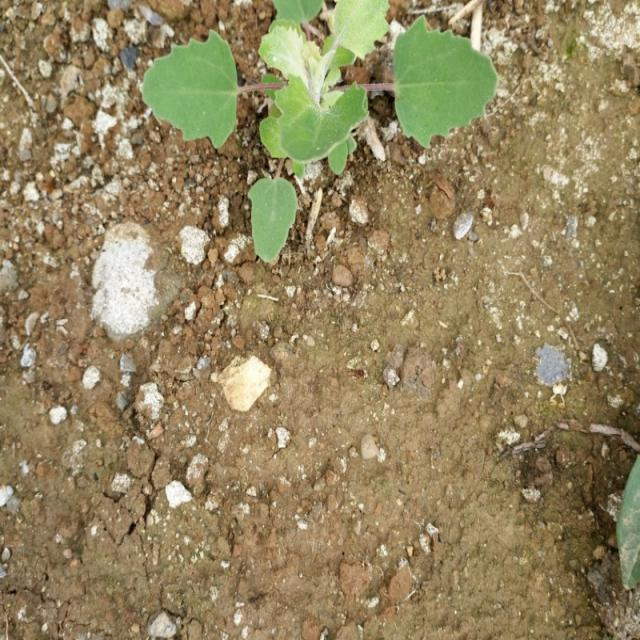ca: (142, 2, 500, 165)
